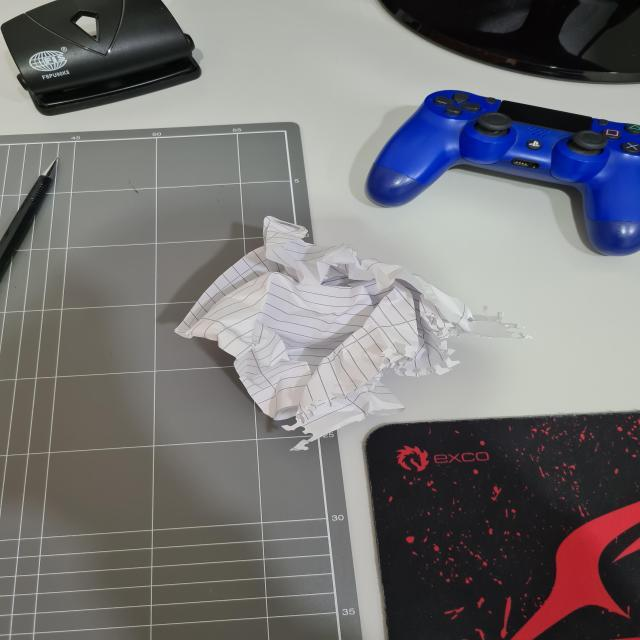cardboard paper: (176, 216, 523, 450)
